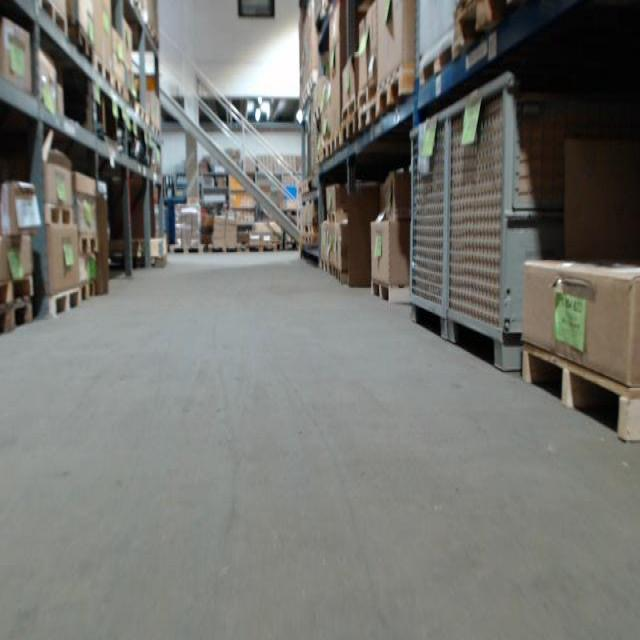pallet: (516, 344, 640, 442), (455, 0, 512, 53), (380, 64, 415, 119), (421, 45, 456, 84), (0, 299, 32, 337), (38, 0, 67, 38), (368, 277, 412, 302), (0, 275, 34, 305), (48, 289, 80, 319), (70, 24, 93, 62), (358, 95, 379, 135), (92, 54, 114, 91), (42, 200, 73, 222), (244, 240, 278, 255), (169, 242, 207, 255), (342, 114, 357, 144), (206, 243, 243, 255), (79, 281, 96, 303), (76, 238, 98, 254), (331, 134, 340, 154), (323, 141, 332, 159)
stillage: (447, 67, 637, 372), (406, 101, 453, 343)
